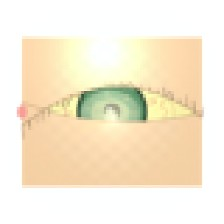corneal_ulcer: (79, 88, 142, 138)
